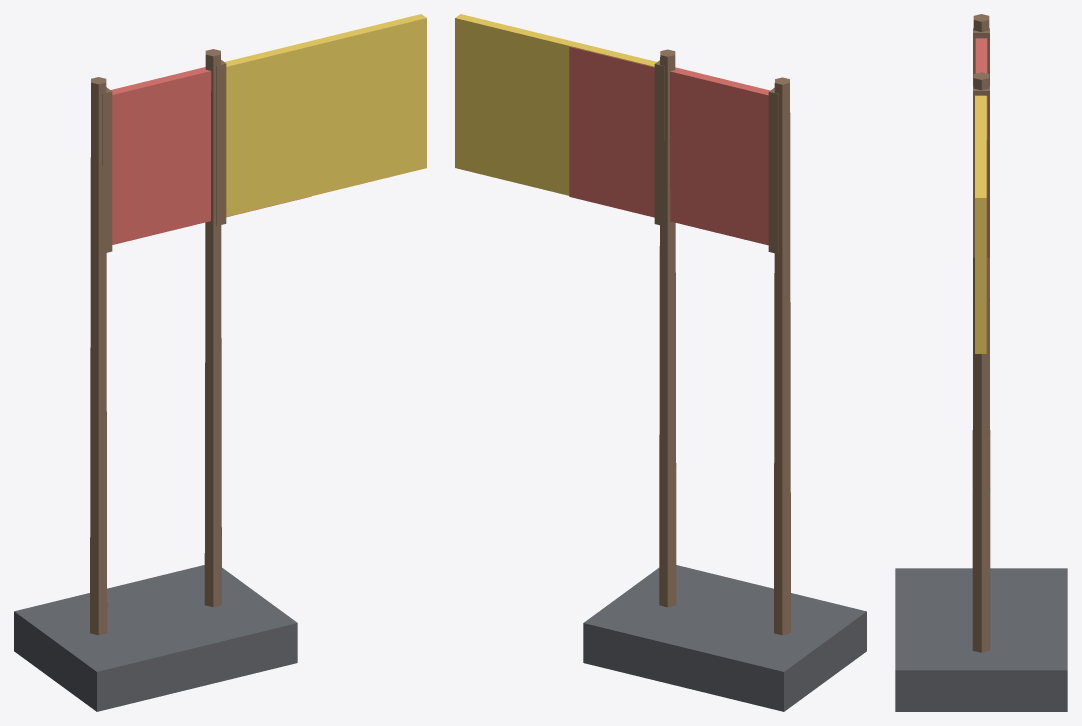
Rendered from hot-air-balloon-festival-launch-marshal-flag-pair-9380a9ac__38505.glb.
The picture shows the model from 3 angles, left to right: view 1: azimuth 30°, elevation 25°; view 2: azimuth 150°, elevation 25°; view 3: azimuth 270°, elevation 25°; orthographic projection. The views are drawn at different scales.
Visible parts, largest first — view 1: launch-marshal-flag-pair-canvasD, launch-marshal-flag-pair-charcoal, launch-marshal-flag-pair-leather, launch-marshal-flag-pair-canvasA; view 2: launch-marshal-flag-pair-canvasA, launch-marshal-flag-pair-charcoal, launch-marshal-flag-pair-leather, launch-marshal-flag-pair-canvasD; view 3: launch-marshal-flag-pair-charcoal, launch-marshal-flag-pair-leather, launch-marshal-flag-pair-canvasD, launch-marshal-flag-pair-canvasA.
Part boxes in pixels (x1,y1,x2,y2): launch-marshal-flag-pair-canvasD: [225, 14, 426, 216]; launch-marshal-flag-pair-charcoal: [14, 565, 297, 711]; launch-marshal-flag-pair-leather: [90, 49, 226, 635]; launch-marshal-flag-pair-canvasA: [111, 67, 311, 244]; launch-marshal-flag-pair-canvasA: [569, 46, 769, 245]; launch-marshal-flag-pair-charcoal: [583, 565, 866, 711]; launch-marshal-flag-pair-leather: [654, 49, 790, 635]; launch-marshal-flag-pair-canvasD: [455, 14, 656, 195]; launch-marshal-flag-pair-charcoal: [895, 568, 1067, 711]; launch-marshal-flag-pair-leather: [972, 14, 990, 652]; launch-marshal-flag-pair-canvasD: [975, 95, 986, 353]; launch-marshal-flag-pair-canvasA: [975, 38, 987, 295].
Bounding box in the file's own units: 0.77 × 1.18 × 0.3.
